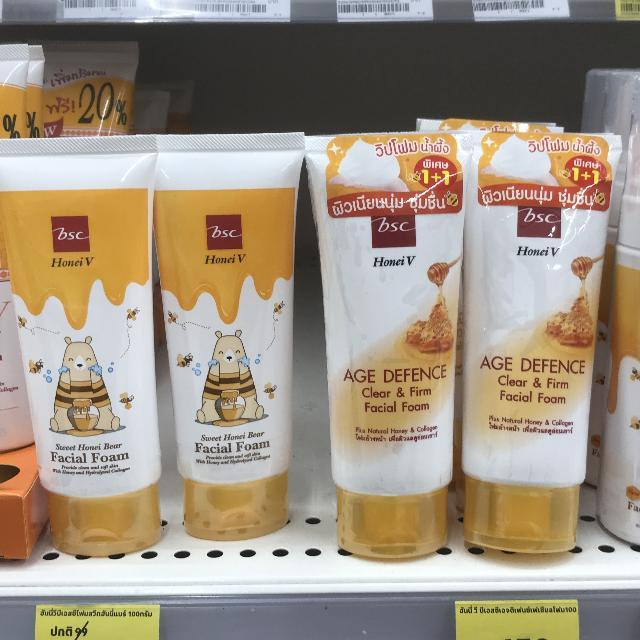Squeeze Tube: (0, 120, 170, 580), (301, 130, 467, 574), (144, 128, 308, 550), (460, 121, 584, 554), (595, 127, 640, 567)
